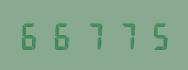five: (138, 20, 167, 50)
seven: (78, 20, 107, 50), (108, 20, 137, 50)
six: (18, 20, 47, 50), (48, 20, 77, 50)
